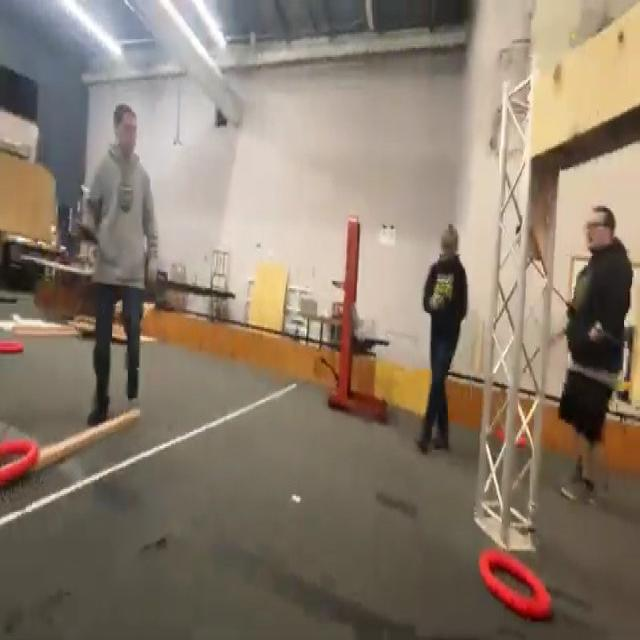note: (476, 544, 555, 624), (0, 436, 40, 488), (0, 338, 23, 356)
